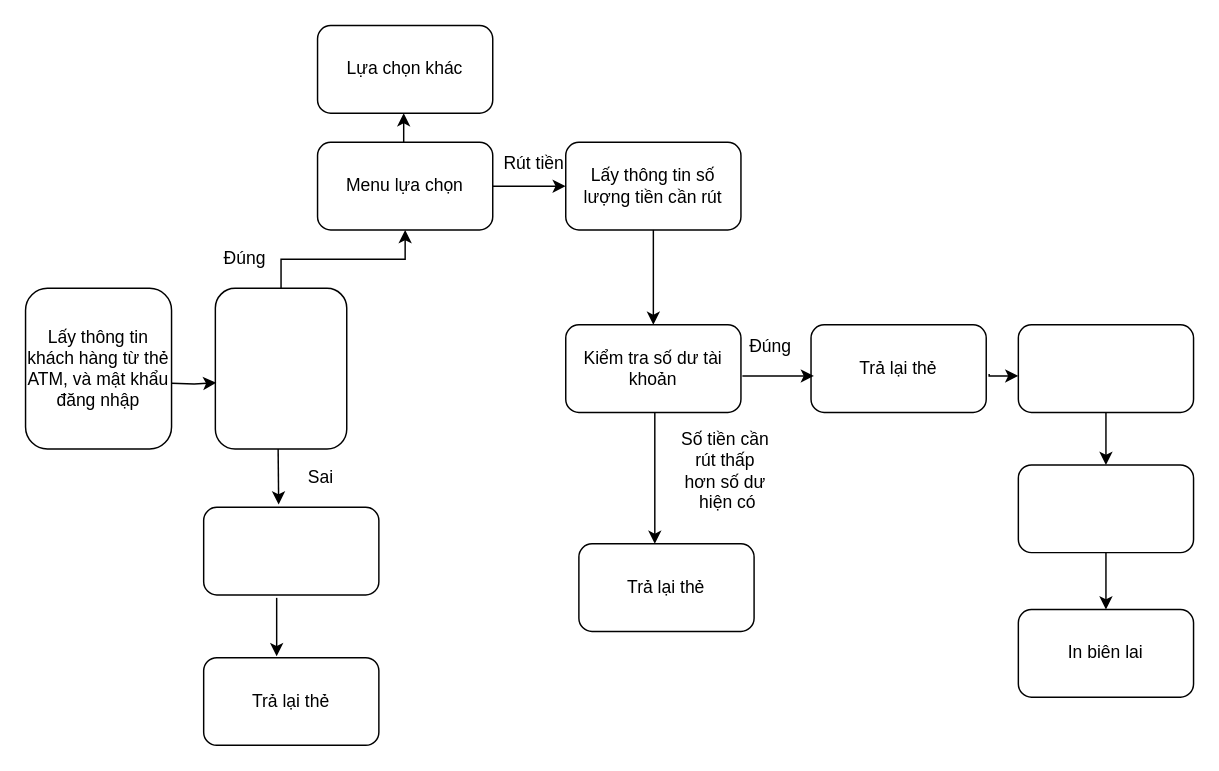
Some shapes in this 1219 by 771 pixel diagram are drawn without their labels. The shapes that lost their labels are listed below. From the top down, each one's box as (x1, y1, x2, y2) in pixels, then its label:
(214, 287, 347, 449): Hệ thống xác thực người dùng
(1017, 323, 1194, 412): Trả về số tiền khách hàng cần rút
(1017, 464, 1194, 553): Trừ số dư tài khoản trong hệ thống
(202, 506, 379, 595): Thông báo đăng nhập thất bại
